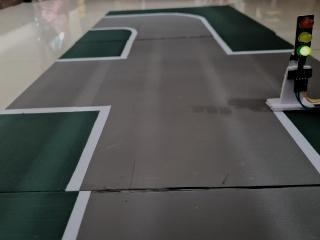green: (288, 9, 317, 65)
